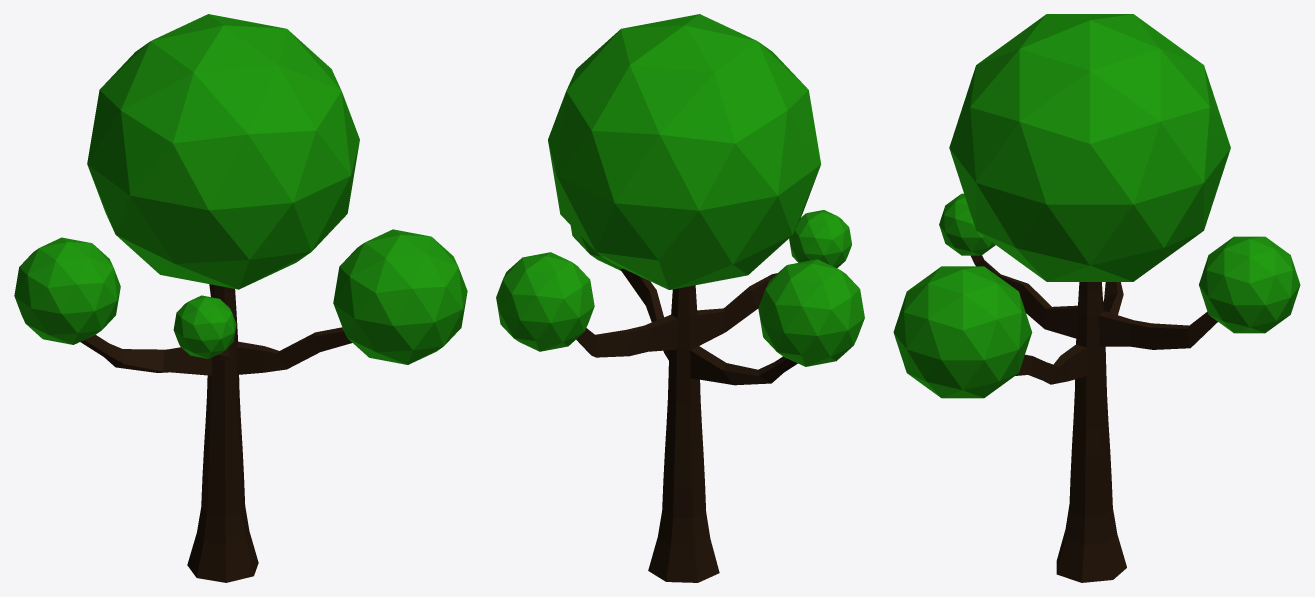
File: tree_1.obj
3 renders of one model, left to right at view 1: azimuth 30°, elevation 25°; view 2: azimuth 150°, elevation 25°; view 3: azimuth 270°, elevation 25°, orthographic.
Parts seen in each view (by area): view 1: Icosphere, Cylinder.001, Icosphere.001, Icosphere.002, Icosphere.004; view 2: Icosphere, Cylinder.001, Icosphere.002, Icosphere.003, Icosphere.004; view 3: Icosphere, Cylinder.001, Icosphere.001, Icosphere.003, Icosphere.004.
Part boxes in pixels (bbox=[...]): Icosphere: bbox=[87, 14, 359, 289]; Cylinder.001: bbox=[80, 284, 352, 582]; Icosphere.001: bbox=[333, 229, 467, 364]; Icosphere.002: bbox=[14, 237, 120, 344]; Icosphere.004: bbox=[173, 295, 236, 358]; Icosphere: bbox=[548, 14, 821, 289]; Cylinder.001: bbox=[576, 268, 797, 582]; Icosphere.002: bbox=[758, 259, 864, 366]; Icosphere.003: bbox=[496, 252, 594, 351]; Icosphere.004: bbox=[789, 210, 851, 268]; Icosphere: bbox=[949, 14, 1230, 281]; Cylinder.001: bbox=[971, 255, 1217, 582]; Icosphere.001: bbox=[893, 266, 1032, 398]; Icosphere.003: bbox=[1199, 236, 1300, 333]; Icosphere.004: bbox=[939, 193, 995, 255].
Bounding box in the file's own units: 5.17 × 7.5 × 5.06.
